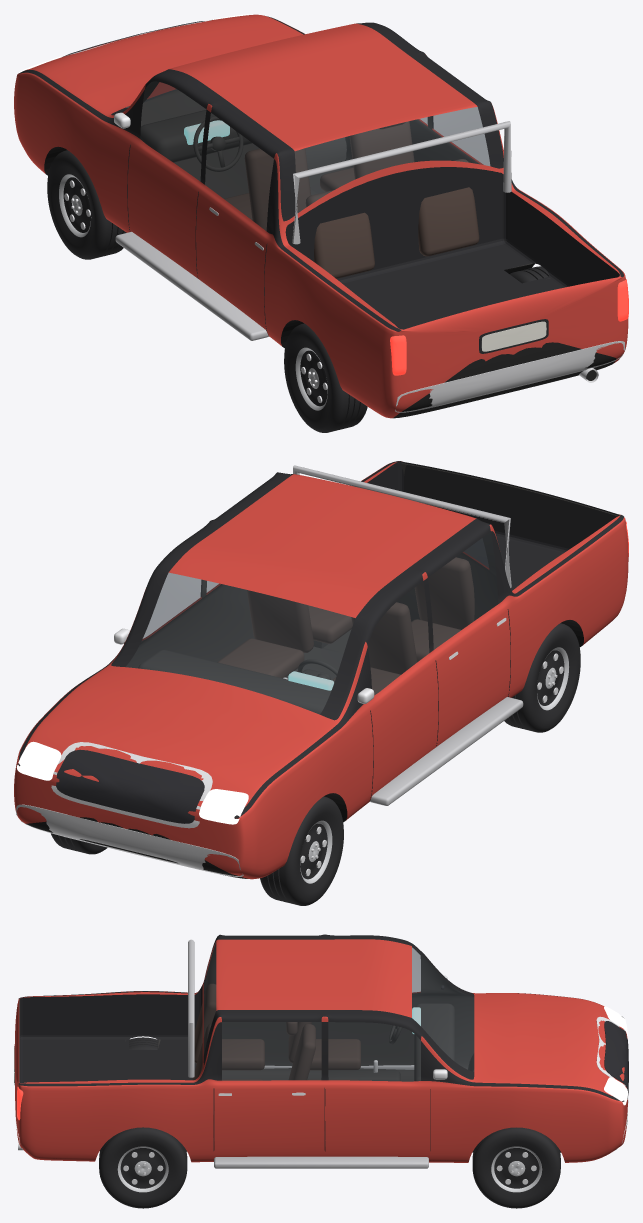
The model's file is HaulstarPickup.glb.
The picture shows the model from 3 angles, top to bottom: view 1: azimuth 30°, elevation 25°; view 2: azimuth 150°, elevation 25°; view 3: azimuth 270°, elevation 25°; orthographic projection. The views are drawn at different scales.
Parts seen in each view (by area): view 1: HaulstarPickup_Body, HaulstarPickup_Interior, HaulstarPickup_Glass, HaulstarPickup_Wheel_RL, HaulstarPickup_Wheel_FL, HaulstarPickup_Lights_Tail, HaulstarPickup_Steering; view 2: HaulstarPickup_Body, HaulstarPickup_Glass, HaulstarPickup_Interior, HaulstarPickup_Wheel_FL, HaulstarPickup_Wheel_RL, HaulstarPickup_Lights_Head; view 3: HaulstarPickup_Body, HaulstarPickup_Interior, HaulstarPickup_Glass, HaulstarPickup_Wheel_FR, HaulstarPickup_Wheel_RR, HaulstarPickup_Lights_Head.
Boxes of the visible parts, left/top/right/bottom form: HaulstarPickup_Body: left=14, top=14, right=628, bottom=418; HaulstarPickup_Interior: left=126, top=81, right=619, bottom=278; HaulstarPickup_Glass: left=126, top=81, right=490, bottom=230; HaulstarPickup_Wheel_RL: left=284, top=323, right=367, bottom=432; HaulstarPickup_Wheel_FL: left=47, top=150, right=126, bottom=259; HaulstarPickup_Lights_Tail: left=390, top=279, right=628, bottom=375; HaulstarPickup_Steering: left=193, top=116, right=243, bottom=171; HaulstarPickup_Body: left=14, top=461, right=628, bottom=879; HaulstarPickup_Glass: left=126, top=532, right=497, bottom=714; HaulstarPickup_Interior: left=126, top=462, right=618, bottom=714; HaulstarPickup_Wheel_FL: left=260, top=796, right=343, bottom=905; HaulstarPickup_Wheel_RL: left=504, top=623, right=580, bottom=732; HaulstarPickup_Lights_Head: left=16, top=741, right=248, bottom=824; HaulstarPickup_Body: left=14, top=934, right=628, bottom=1168; HaulstarPickup_Interior: left=19, top=942, right=474, bottom=1082; HaulstarPickup_Glass: left=204, top=942, right=473, bottom=1081; HaulstarPickup_Wheel_FR: left=472, top=1127, right=560, bottom=1208; HaulstarPickup_Wheel_RR: left=99, top=1127, right=187, bottom=1208; HaulstarPickup_Lights_Head: left=604, top=1006, right=627, bottom=1105.
Bounding box in the file's own units: 2.2 × 1.85 × 5.43.
